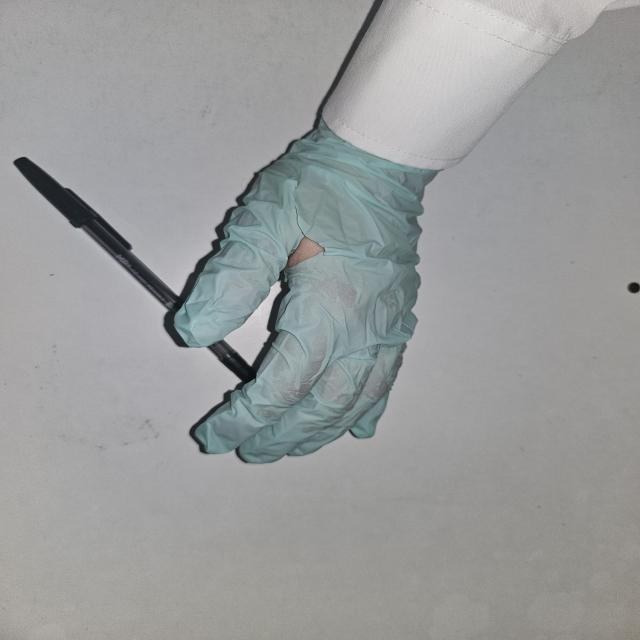gloves_damaged: (169, 120, 428, 469)
